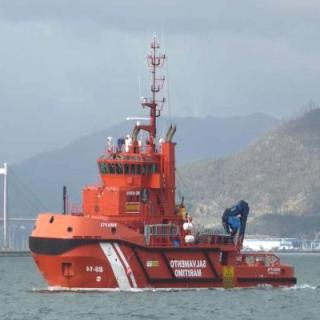Tug Boat: (34, 73, 296, 296)
